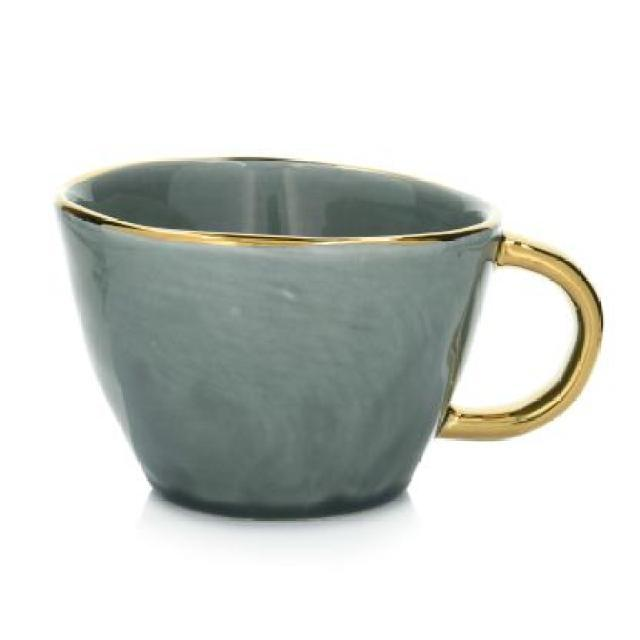cup: (46, 157, 611, 528)
